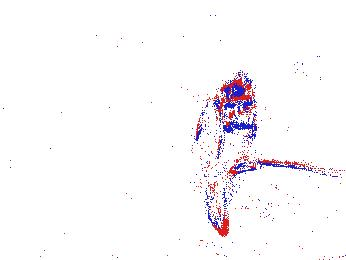X-ray fish: (196, 71, 258, 186), (199, 156, 258, 237)
siberian prawn: (233, 191, 346, 254)
